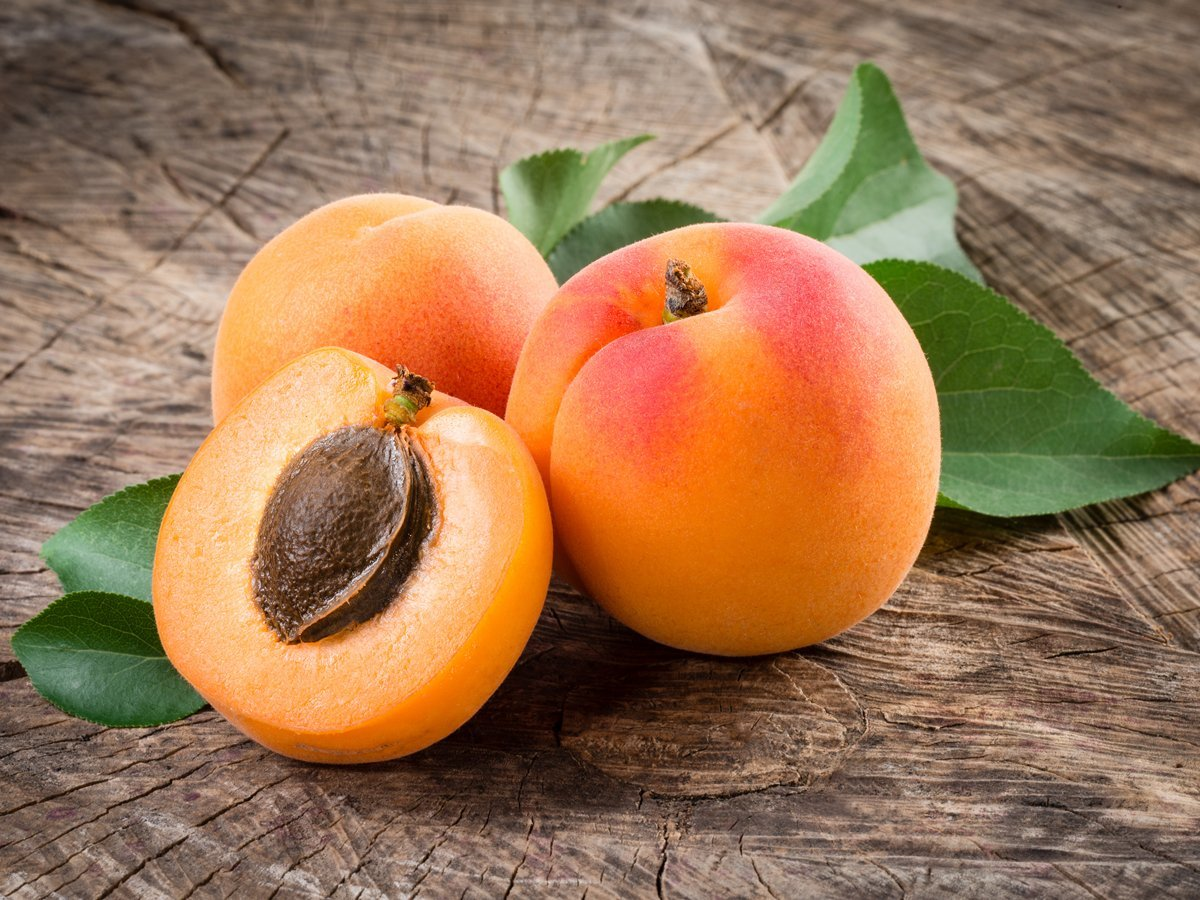Apricot 17cal Avocado Tropical Smoothie missing:Kiwi: (32, 63, 1200, 768)
